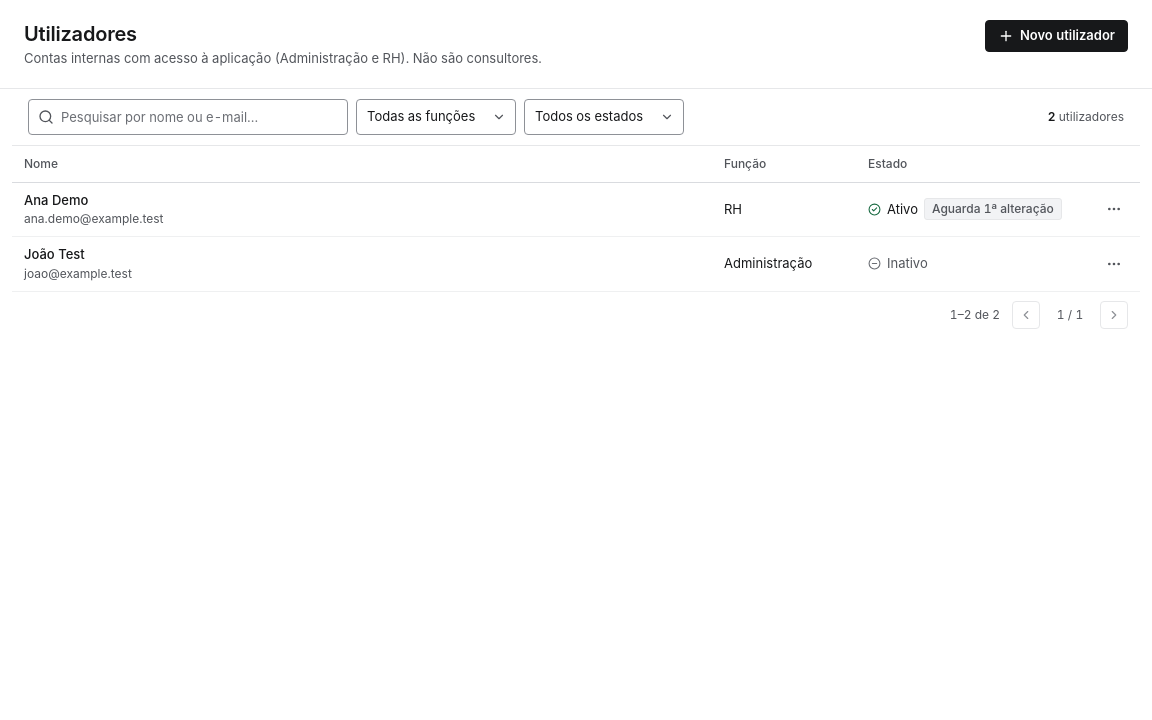
Test: UsersPage › create validates fields and sends exactly the role value the API defines
Expected: the table is shown, [12,146,1140,290]
Click the button "Novo utilizador" at x=1056, y=36, box [985,20,1128,52]
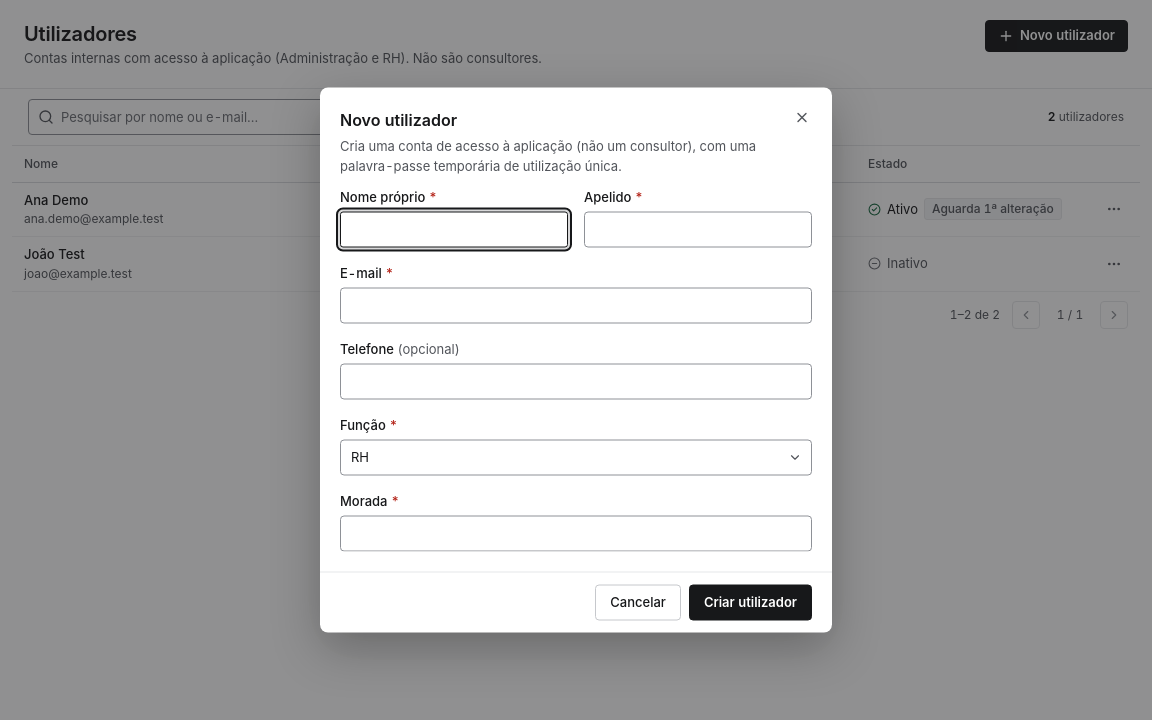
Now the text "não um consultor" is shown, box [340,138,756,174]
Click the button "Criar utilizador" at x=750, y=602, box [689,584,812,620]
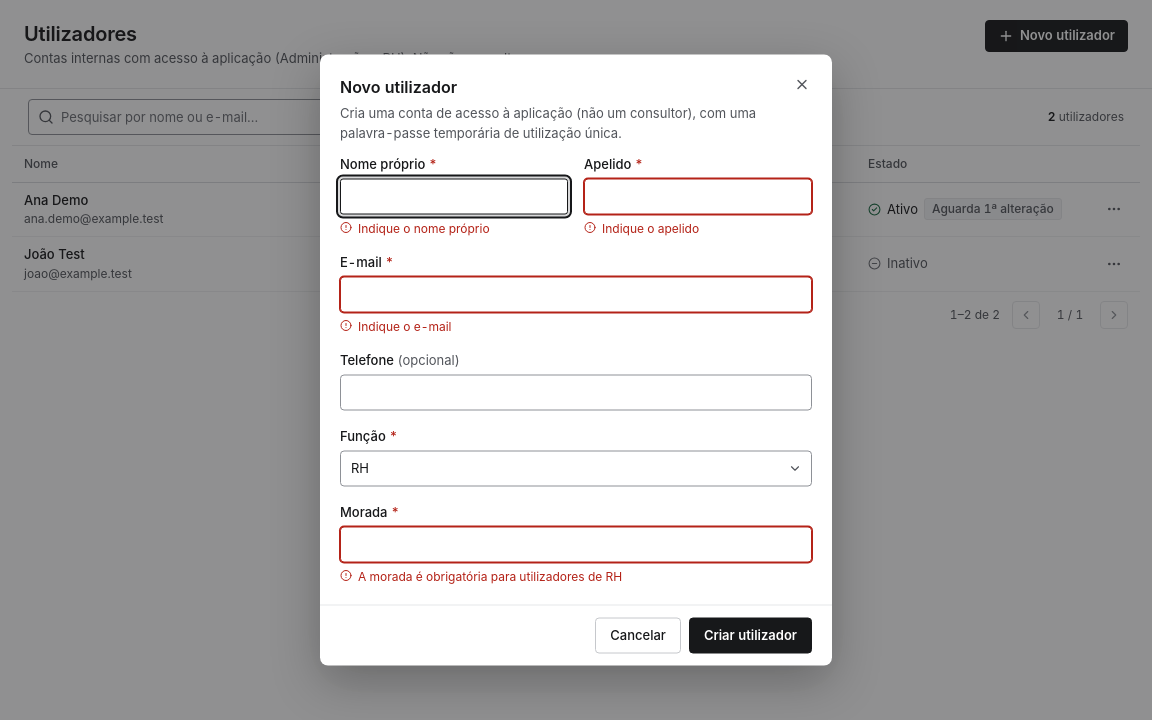
Now the text "Indique o e-mail" is shown, box [358,318,452,334]
Type "Ana" into the field labelled "Nome próprio *" at x=454, y=196, box [340,178,568,214]
Type "Example" into the field labelled "Apelido *" at x=698, y=196, box [584,178,812,214]
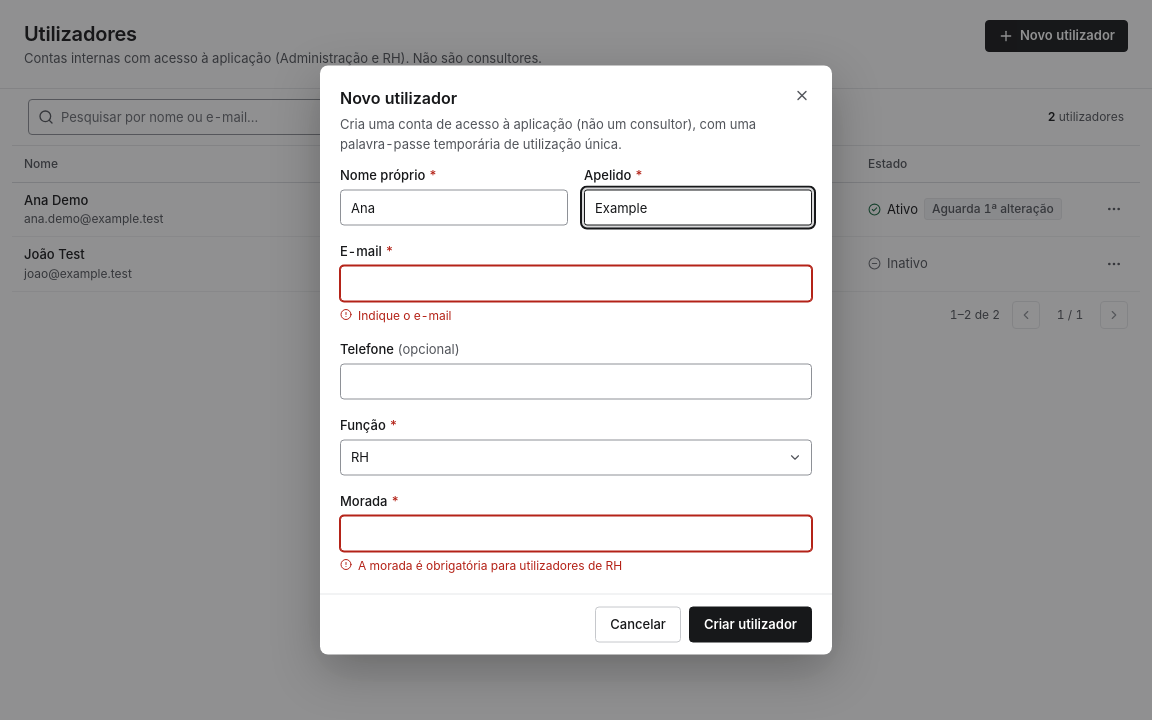
Type "ana@example.test" into the field labelled "E-mail *" at x=576, y=284, box [340,266,812,302]
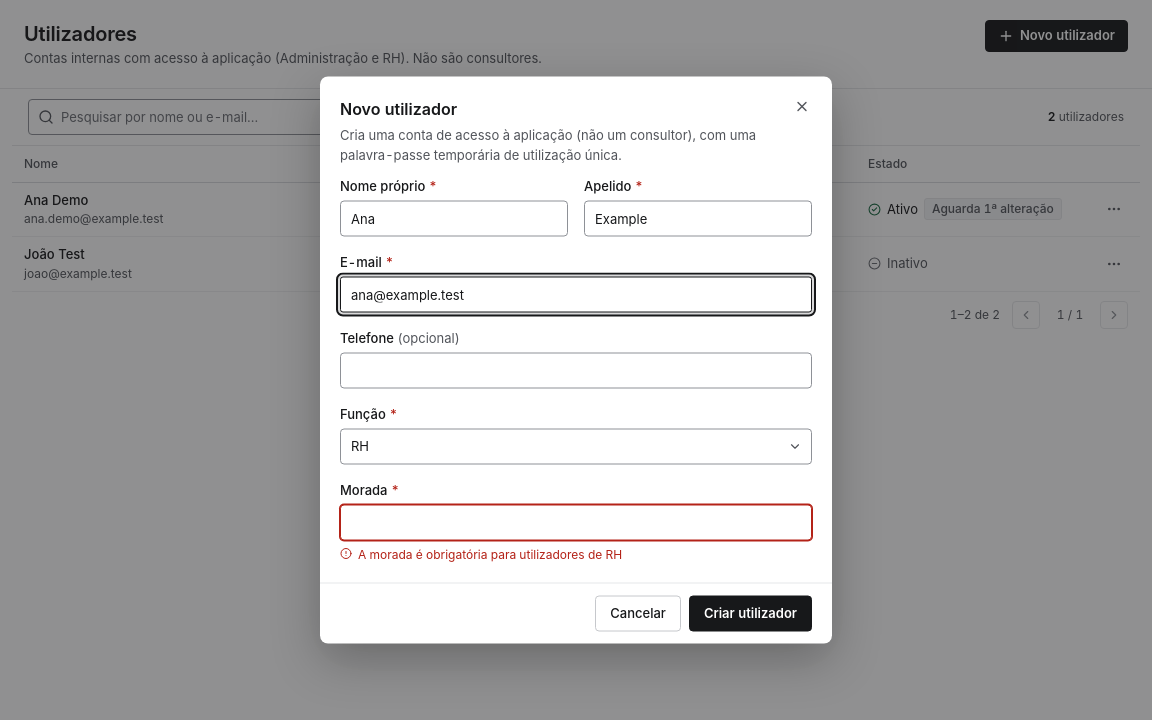
Select "Administração" in the dropdown labelled "Função *" at x=576, y=446, box [340,428,812,464]
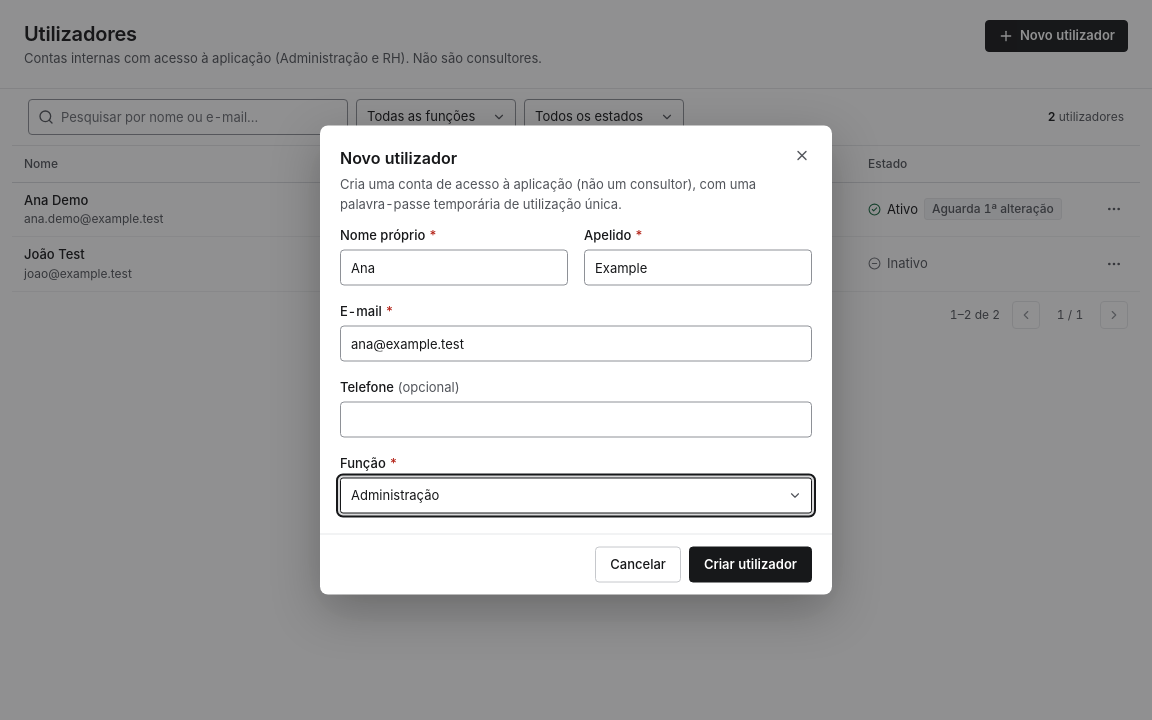
Click the button "Criar utilizador" at x=750, y=564, box [689,546,812,582]
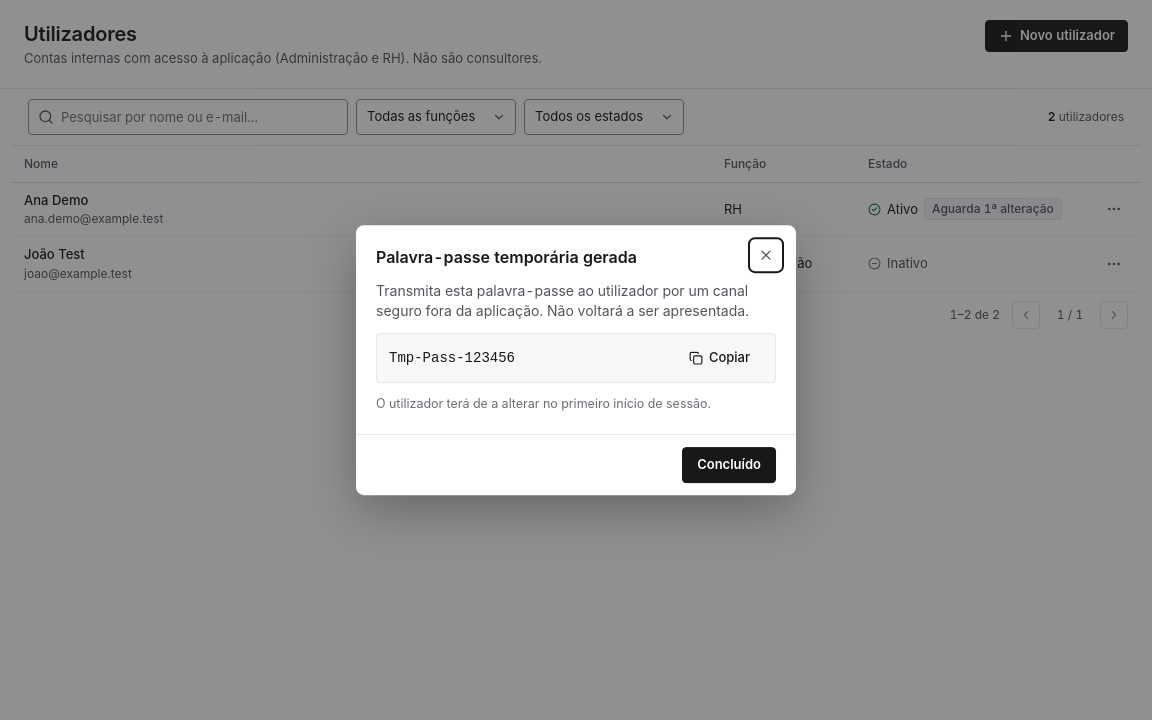
Now the dialog "Palavra-passe temporária gerada" shows "Tmp-Pass-123456", box [389,350,515,366]
